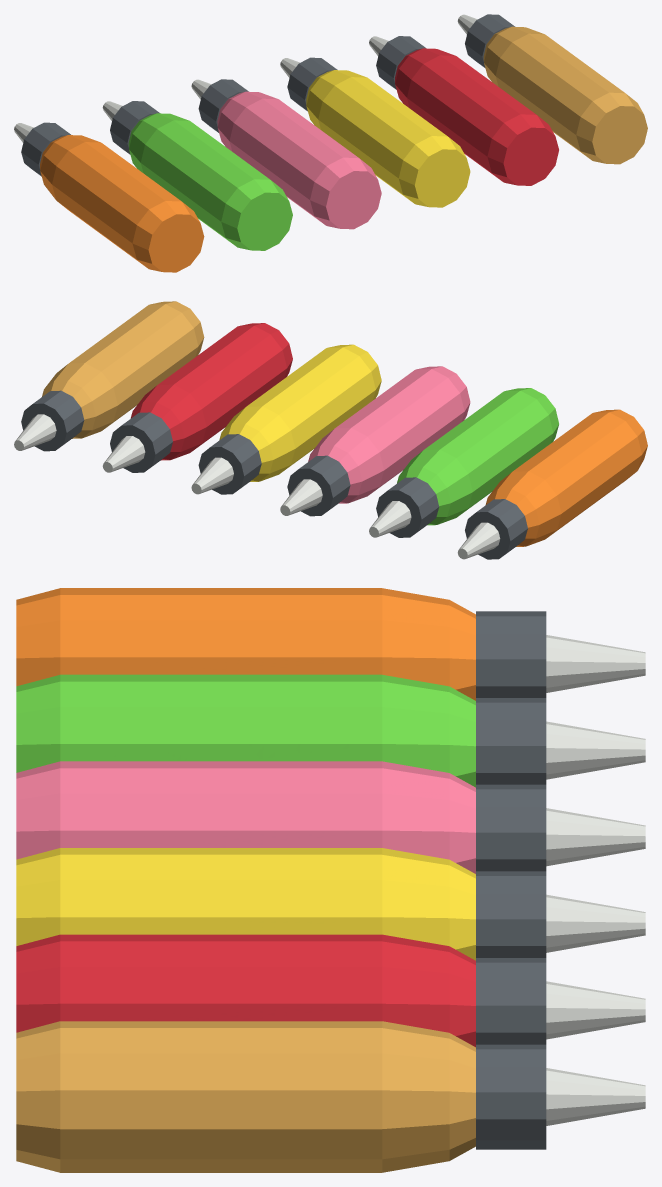
Rendered from ColdStationProps.fbx.
3 renders of one model, top to bottom at view 1: azimuth 30°, elevation 25°; view 2: azimuth 150°, elevation 25°; view 3: azimuth 270°, elevation 25°, orthographic. The views are drawn at different scales.
Parts seen in each view (by area): view 1: SB_01_BottleBody.001, SB_02_BottleBody.001, SB_06_BottleBody.001, SB_04_BottleBody.001, SB_03_BottleBody.001, SB_05_BottleBody.001, SB_04_Cap.001, SB_05_Cap.001, SB_06_Cap.001, SB_03_Cap.001, SB_02_Cap.001, SB_01_Cap.001; view 2: SB_01_BottleBody.001, SB_02_BottleBody.001, SB_05_BottleBody.001, SB_06_BottleBody.001, SB_03_BottleBody.001, SB_04_BottleBody.001, SB_03_Cap.001, SB_05_Cap.001, SB_01_Cap.001, SB_02_Cap.001, SB_04_Cap.001, SB_06_Cap.001 (+6 smaller); view 3: SB_06_BottleBody.001, SB_02_BottleBody.001, SB_05_BottleBody.001, SB_03_BottleBody.001, SB_04_BottleBody.001, SB_01_BottleBody.001, SB_06_Cap.001, SB_03_Cap.001, SB_01_Cap.001, SB_02_Cap.001, SB_04_Cap.001, SB_05_Cap.001 (+6 smaller).
Boxes of the visible parts, bbox=[...] form: SB_01_BottleBody.001: bbox=[40, 135, 204, 272]; SB_02_BottleBody.001: bbox=[128, 113, 292, 250]; SB_06_BottleBody.001: bbox=[483, 26, 647, 164]; SB_04_BottleBody.001: bbox=[306, 70, 470, 207]; SB_03_BottleBody.001: bbox=[217, 91, 381, 229]; SB_05_BottleBody.001: bbox=[395, 48, 558, 185]; SB_04_Cap.001: bbox=[287, 57, 337, 111]; SB_05_Cap.001: bbox=[376, 36, 426, 89]; SB_06_Cap.001: bbox=[465, 14, 515, 67]; SB_03_Cap.001: bbox=[198, 79, 248, 132]; SB_02_Cap.001: bbox=[110, 101, 159, 154]; SB_01_Cap.001: bbox=[21, 122, 70, 176]; SB_01_BottleBody.001: bbox=[485, 409, 647, 546]; SB_02_BottleBody.001: bbox=[397, 388, 558, 525]; SB_05_BottleBody.001: bbox=[130, 323, 292, 460]; SB_06_BottleBody.001: bbox=[42, 301, 204, 438]; SB_03_BottleBody.001: bbox=[308, 366, 470, 503]; SB_04_BottleBody.001: bbox=[219, 344, 381, 481]; SB_03_Cap.001: bbox=[287, 455, 350, 516]; SB_05_Cap.001: bbox=[110, 412, 172, 472]; SB_01_Cap.001: bbox=[465, 499, 527, 559]; SB_02_Cap.001: bbox=[376, 477, 439, 537]; SB_04_Cap.001: bbox=[198, 434, 261, 494]; SB_06_Cap.001: bbox=[21, 390, 84, 451]; SB_06_BottleBody.001: bbox=[16, 1021, 475, 1172]; SB_02_BottleBody.001: bbox=[16, 674, 475, 787]; SB_05_BottleBody.001: bbox=[16, 934, 475, 1047]; SB_03_BottleBody.001: bbox=[16, 761, 475, 873]; SB_04_BottleBody.001: bbox=[16, 848, 475, 960]; SB_01_BottleBody.001: bbox=[16, 588, 475, 700]; SB_06_Cap.001: bbox=[476, 1044, 546, 1149]; SB_03_Cap.001: bbox=[476, 784, 546, 871]; SB_01_Cap.001: bbox=[476, 611, 546, 697]; SB_02_Cap.001: bbox=[476, 698, 546, 784]; SB_04_Cap.001: bbox=[476, 871, 546, 957]; SB_05_Cap.001: bbox=[476, 958, 546, 1044].
Size of the model in its own units: 0.402 by 0.052 by 0.215.
